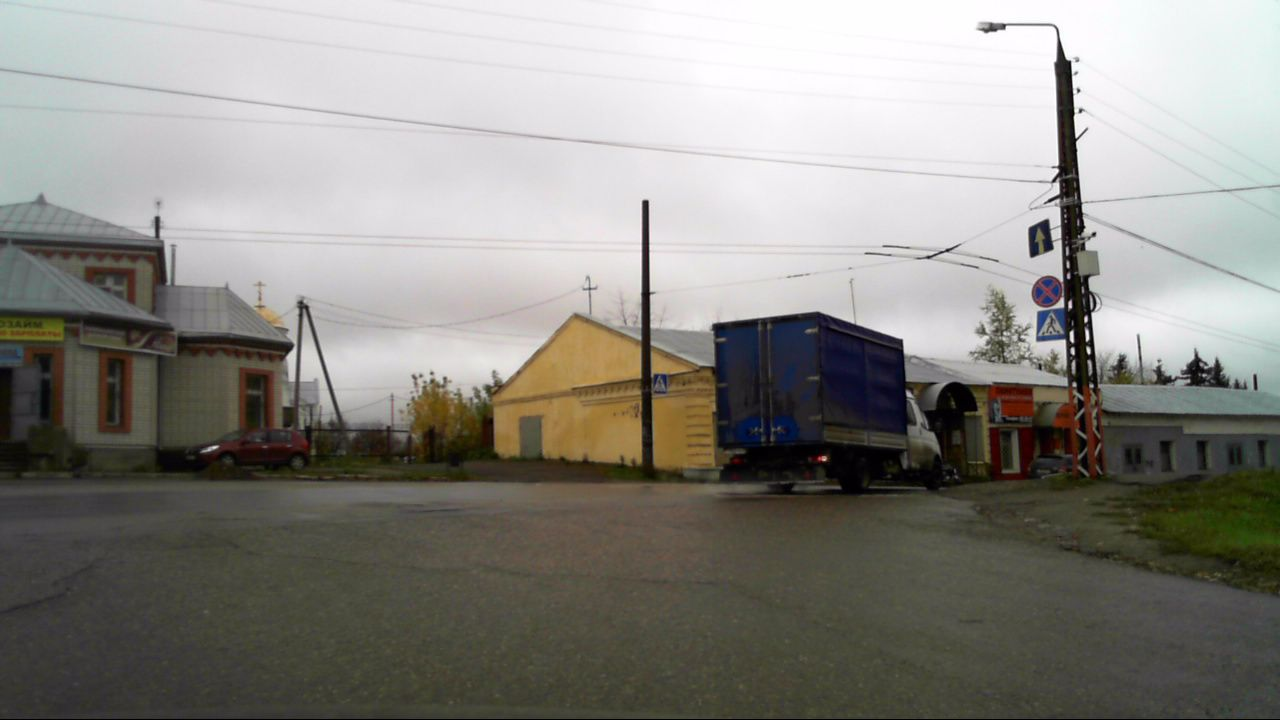No Parking: (1031, 275, 1062, 307)
